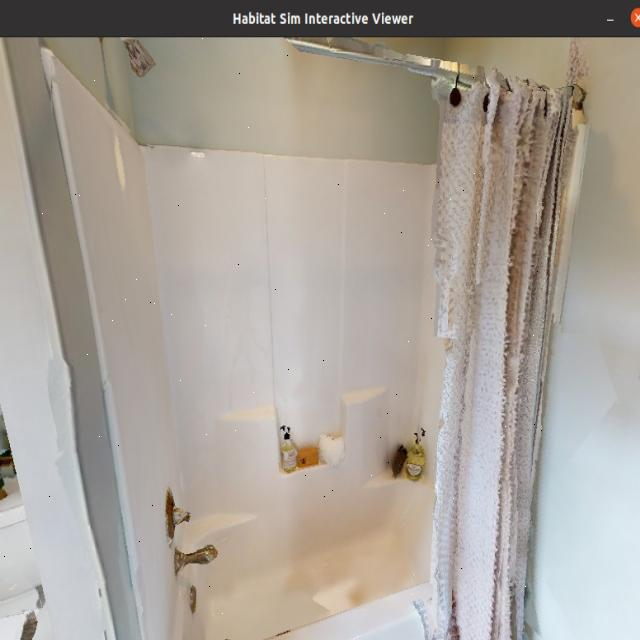shower: (0, 35, 545, 640)
